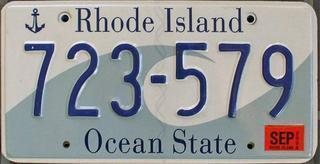placa de veiculo: (7, 4, 312, 158)
